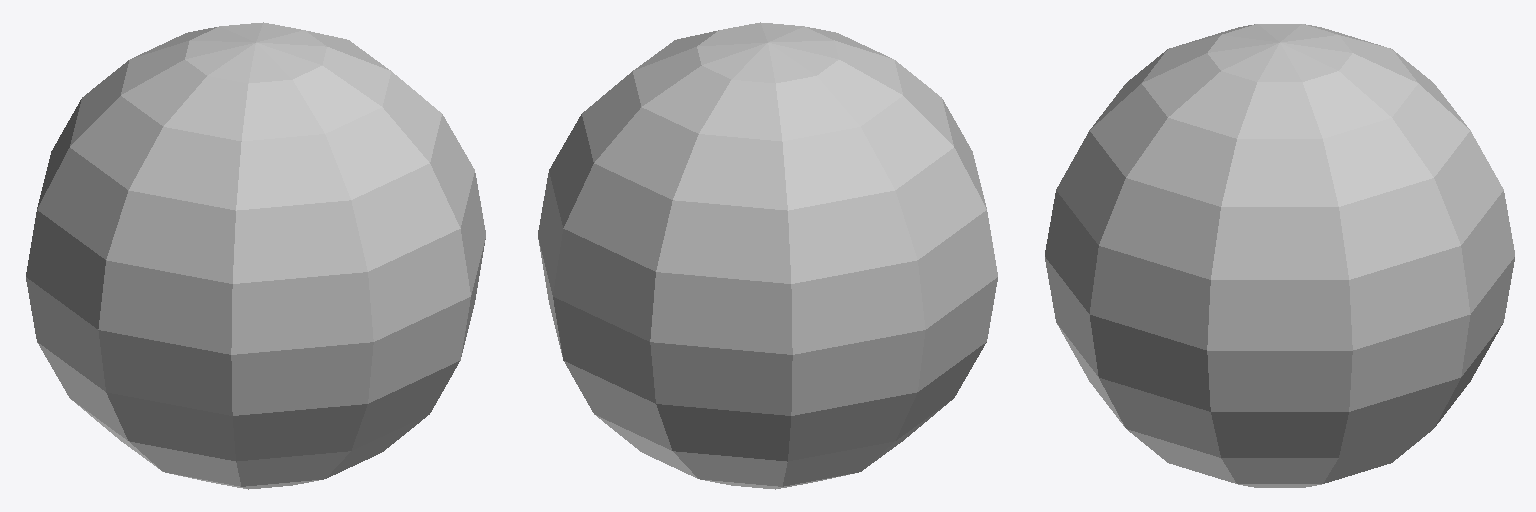
File: COLLIDER_SPHERE.obj
3 renders of one model, left to right at view 1: azimuth 30°, elevation 25°; view 2: azimuth 150°, elevation 25°; view 3: azimuth 270°, elevation 25°, orthographic.
Visible parts, largest first — view 1: Sphere; view 2: Sphere; view 3: Sphere.
Boxes of the visible parts, x1=… form: Sphere: x1=26, y1=22, x2=485, y2=489; Sphere: x1=538, y1=22, x2=997, y2=489; Sphere: x1=1045, y1=24, x2=1514, y2=487.
Bounding box in the file's own units: 1.9 × 2 × 2.